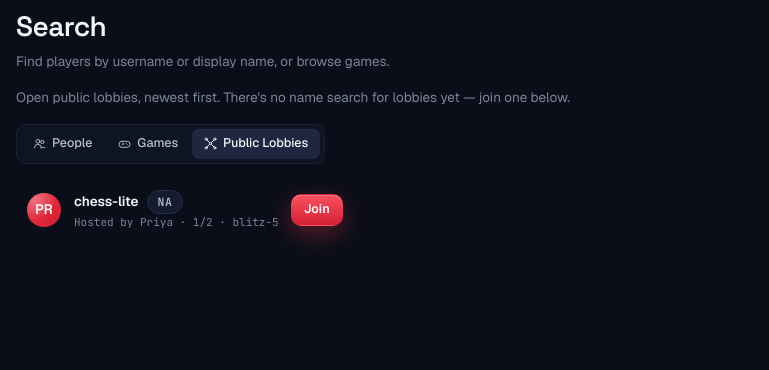
Test: SearchResultsPage — Public Lobbies tab › a 404 on join removes the stale lobby and shows a toast, without navigating
The image size is (769, 370).
Expected: the text "chess-lite" is shown, [74,191,139,212]
Click the button "Join" at (317, 210), box [291,194,343,226]
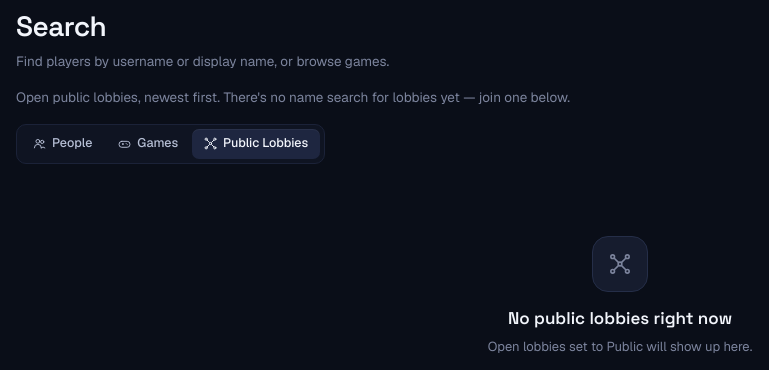
Expected: the text "No public lobbies right now" is shown, [508,306,732,328]
